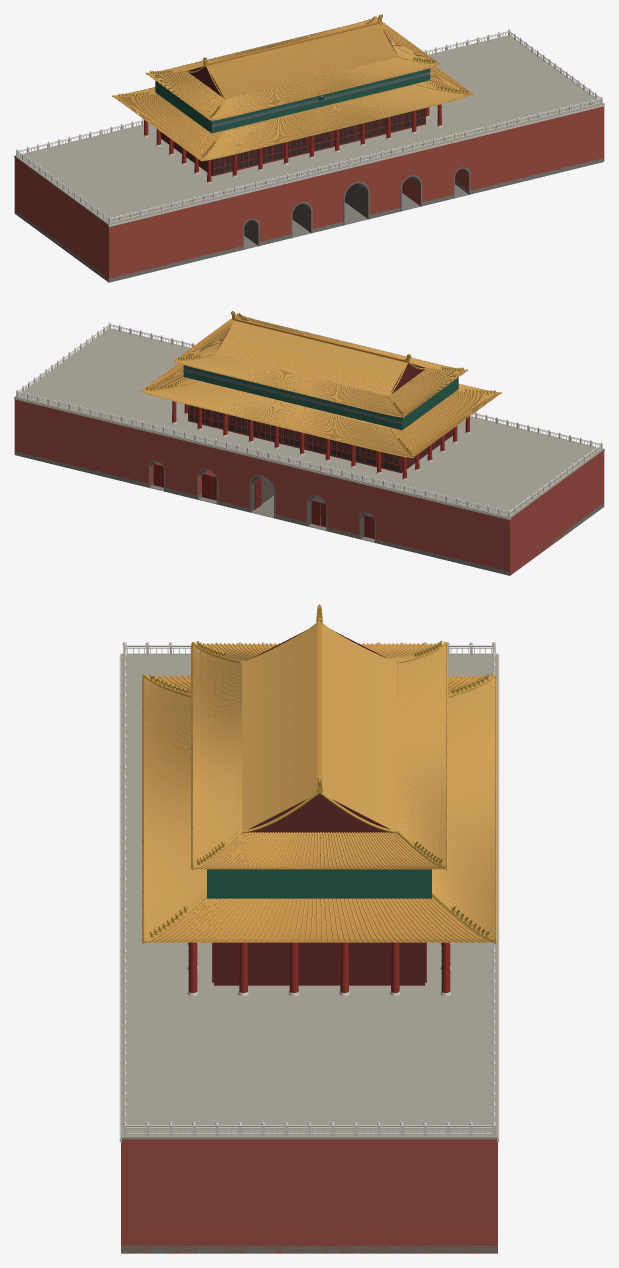
File: detail.glb
3 views of the same model, one above another, from view 1: azimuth 30°, elevation 25°; view 2: azimuth 150°, elevation 25°; view 3: azimuth 270°, elevation 25° (orthographic). The views are drawn at different scales.
Visible parts, largest first — view 1: Duanmen wall.001, Duanmen deck.001, Duanmen tile.001, Duanmen roof.001, Duanmen marble.001, Duanmen stone.001, Duanmen jade.001, Duanmen red.001, Duanmen window.001, Duanmen redDark.001, Duanmen vault.001, Duanmen gold.001 (+1 smaller); view 2: Duanmen wall.001, Duanmen deck.001, Duanmen tile.001, Duanmen roof.001, Duanmen marble.001, Duanmen stone.001, Duanmen jade.001, Duanmen red.001, Duanmen window.001, Duanmen redDark.001, Duanmen door.001, Duanmen gold.001 (+2 smaller); view 3: Duanmen tile.001, Duanmen deck.001, Duanmen wall.001, Duanmen roof.001, Duanmen redDark.001, Duanmen marble.001, Duanmen jade.001, Duanmen gold.001, Duanmen stone.001, Duanmen red.001.
Part boxes in pixels (x1=…): Duanmen wall.001: x1=14, y1=106, x2=604, y2=282; Duanmen deck.001: x1=14, y1=35, x2=604, y2=225; Duanmen tile.001: x1=112, y1=17, x2=473, y2=161; Duanmen roof.001: x1=114, y1=18, x2=470, y2=159; Duanmen marble.001: x1=14, y1=29, x2=604, y2=226; Duanmen stone.001: x1=14, y1=158, x2=604, y2=282; Duanmen jade.001: x1=155, y1=69, x2=430, y2=133; Duanmen red.001: x1=144, y1=104, x2=441, y2=181; Duanmen window.001: x1=214, y1=108, x2=424, y2=174; Duanmen redDark.001: x1=160, y1=30, x2=425, y2=176; Duanmen vault.001: x1=244, y1=168, x2=468, y2=245; Duanmen gold.001: x1=112, y1=14, x2=473, y2=160; Duanmen wall.001: x1=14, y1=399, x2=604, y2=575; Duanmen deck.001: x1=14, y1=328, x2=604, y2=518; Duanmen tile.001: x1=140, y1=314, x2=501, y2=457; Duanmen roof.001: x1=143, y1=315, x2=500, y2=456; Duanmen marble.001: x1=14, y1=322, x2=604, y2=520; Duanmen stone.001: x1=14, y1=451, x2=604, y2=575; Duanmen jade.001: x1=183, y1=365, x2=458, y2=430; Duanmen red.001: x1=172, y1=401, x2=469, y2=478; Duanmen window.001: x1=189, y1=405, x2=399, y2=471; Duanmen redDark.001: x1=188, y1=327, x2=453, y2=473; Duanmen door.001: x1=153, y1=464, x2=374, y2=538; Duanmen gold.001: x1=140, y1=311, x2=501, y2=508; Duanmen tile.001: x1=142, y1=624, x2=496, y2=943; Duanmen deck.001: x1=120, y1=653, x2=498, y2=1139; Duanmen wall.001: x1=121, y1=1139, x2=497, y2=1253; Duanmen roof.001: x1=146, y1=621, x2=492, y2=942; Duanmen redDark.001: x1=214, y1=629, x2=424, y2=985; Duanmen marble.001: x1=119, y1=642, x2=499, y2=1141; Duanmen jade.001: x1=207, y1=869, x2=431, y2=898; Duanmen gold.001: x1=142, y1=604, x2=496, y2=942; Duanmen stone.001: x1=121, y1=1245, x2=497, y2=1253; Duanmen red.001: x1=188, y1=942, x2=450, y2=992.
Bounding box in the file's own units: 1.18 × 0.3487 × 0.3903.
Materials: 17 (1 with a texture image).
